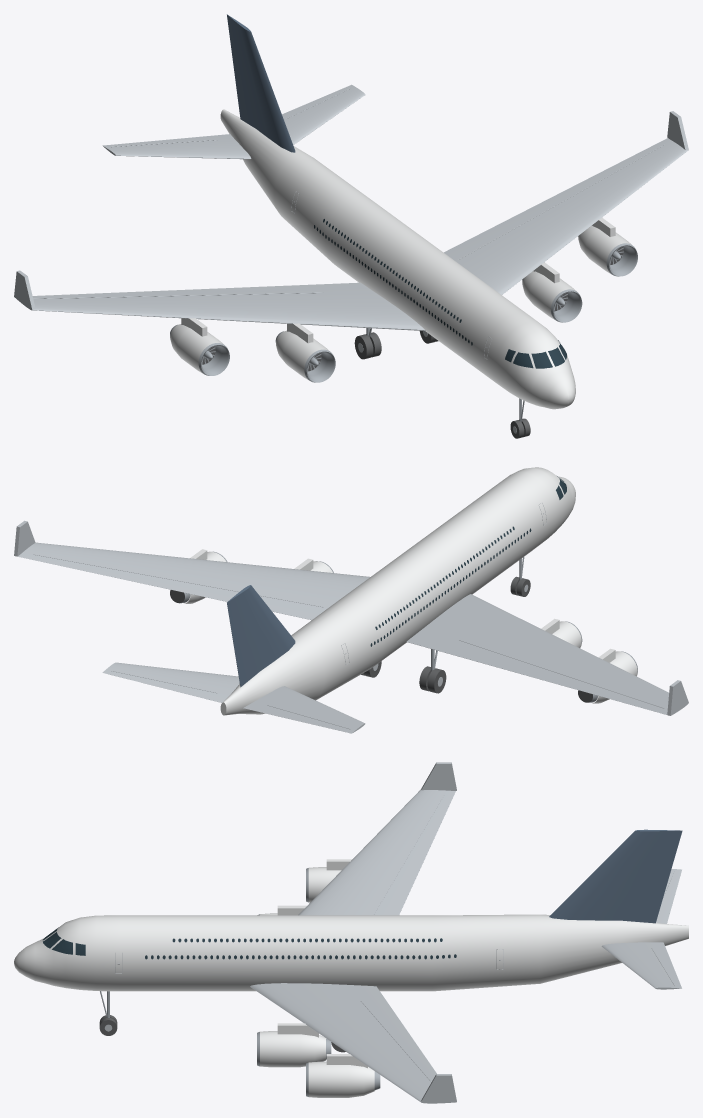
File: aircraft-jumbo.glb
3 renders of one model, top to bottom at view 1: azimuth 30°, elevation 25°; view 2: azimuth 150°, elevation 25°; view 3: azimuth 270°, elevation 25°, orthographic. The views are drawn at different scales.
Parts seen in each view (by area): view 1: aircraft-jumbo, gear; view 2: aircraft-jumbo, gear; view 3: aircraft-jumbo.
Part boxes in pixels (bbox=[...]): aircraft-jumbo: bbox=[14, 14, 688, 409]; gear: bbox=[354, 328, 530, 438]; aircraft-jumbo: bbox=[14, 467, 688, 733]; gear: bbox=[361, 557, 530, 693]; aircraft-jumbo: bbox=[14, 762, 688, 1103].
Bounding box in the file's own units: 79.8 × 24.1 × 72.7.
